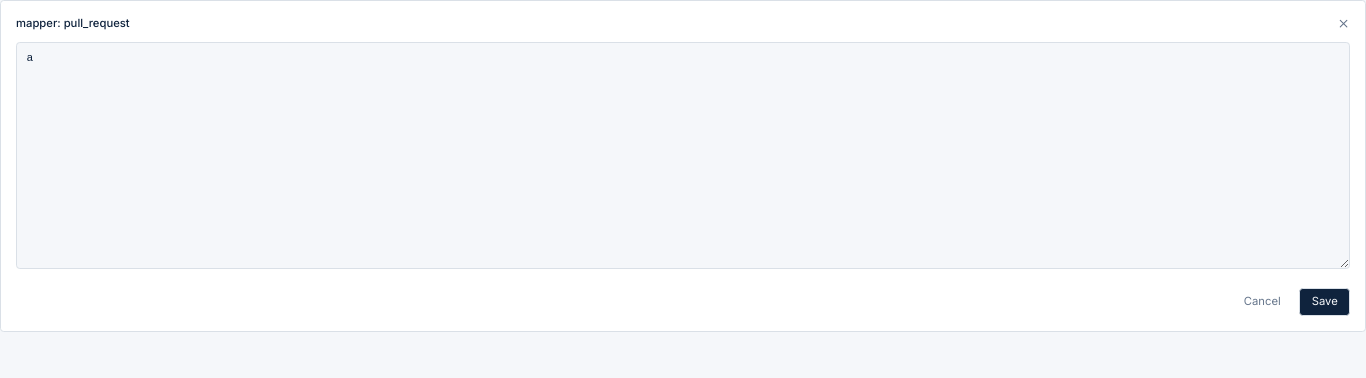
GovernedYamlEditor — admin › shows inline error on save failure and keeps editor open
Click the button "Save" at point(1325, 302), box left=1300, top=288, right=1350, bottom=316
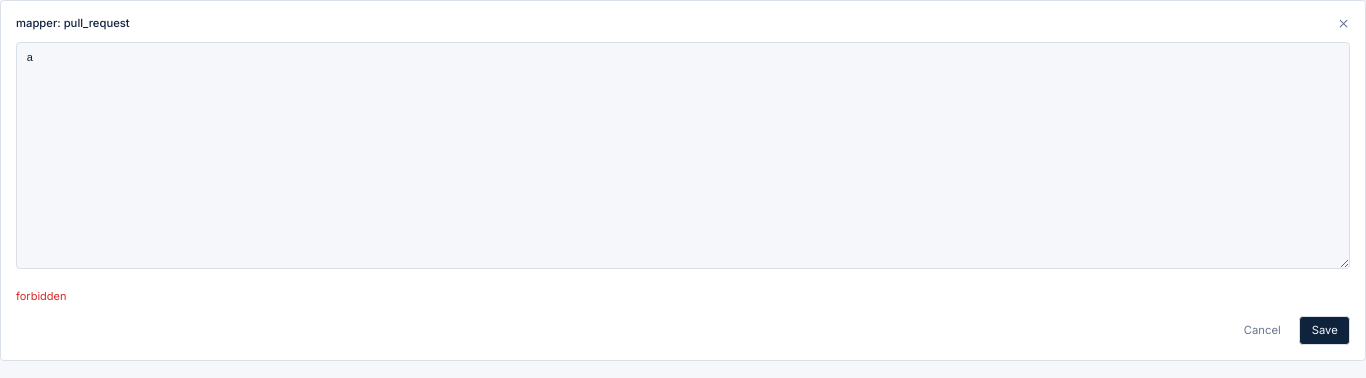
expect the text "forbidden" is shown: met, box left=16, top=288, right=66, bottom=302
